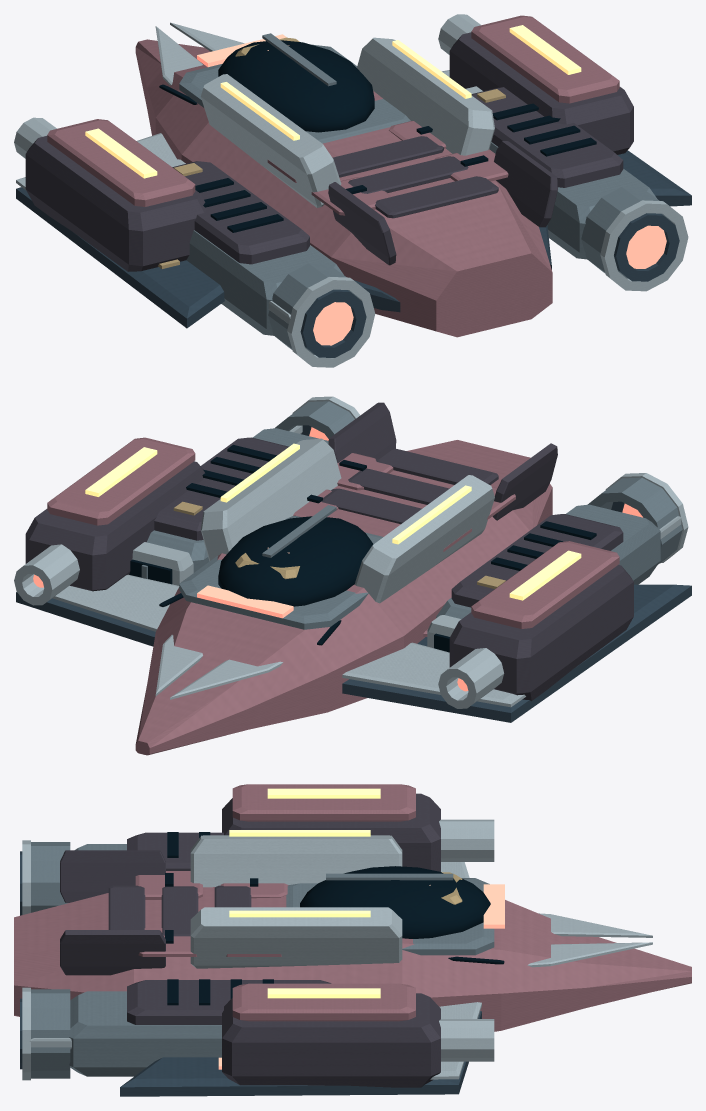
Rendered from small_boss.glb.
The picture shows the model from 3 angles, top to bottom: view 1: azimuth 30°, elevation 25°; view 2: azimuth 150°, elevation 25°; view 3: azimuth 270°, elevation 25°; orthographic projection. The views are drawn at different scales.
Visible parts, largest first — view 1: _MeshInstance3D_461; view 2: _MeshInstance3D_461; view 3: _MeshInstance3D_461.
Part boxes in pixels (x1,y1,x2,y2): _MeshInstance3D_461: (14,14,691,367); _MeshInstance3D_461: (14,396,691,755); _MeshInstance3D_461: (14,784,691,1096).
Bounding box in the file's own units: 0.39 × 0.108 × 0.4704.
1 material, 1 textured.
